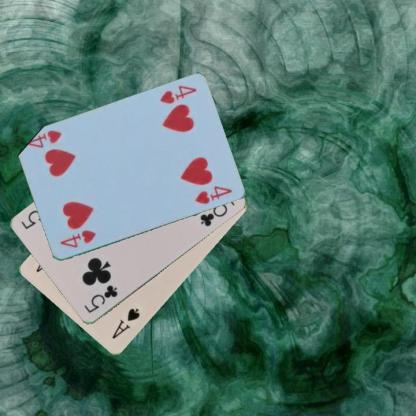4h: (157, 82, 198, 106), (57, 228, 97, 250)
5c: (81, 282, 119, 315)
As: (109, 306, 142, 341)
